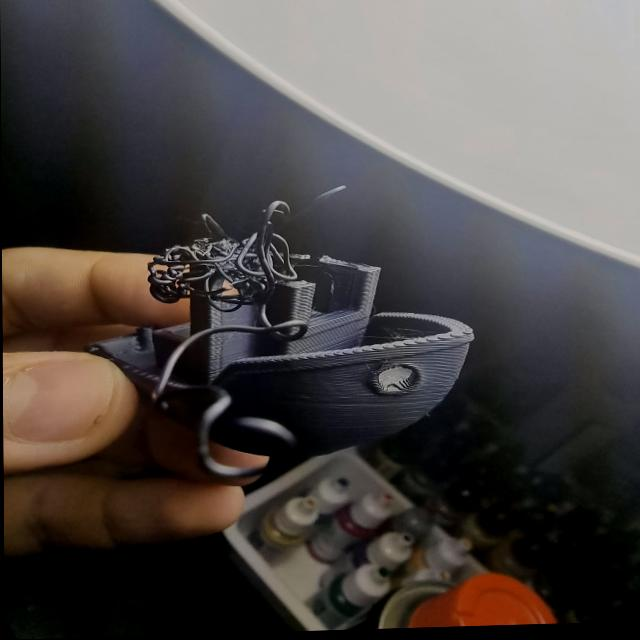spaghetti: (147, 203, 315, 326)
